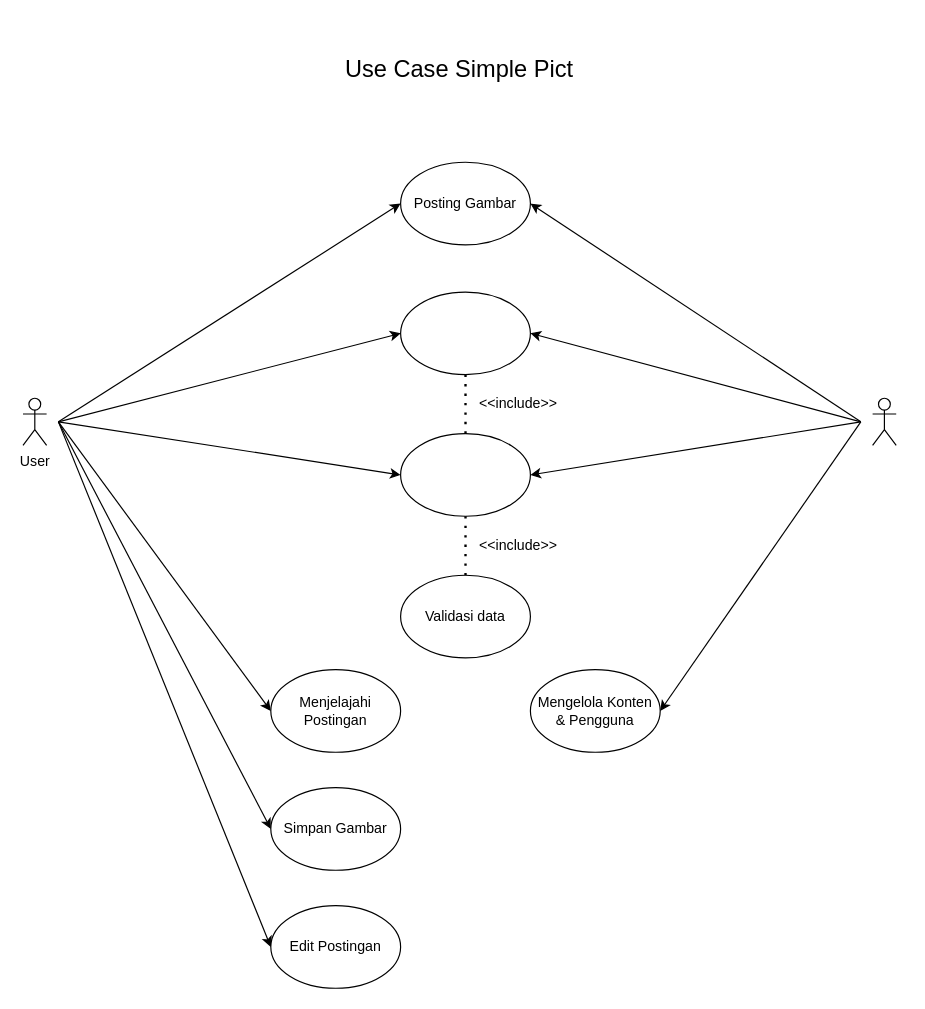
Some shapes in this 925 by 1009 pixel diagram are drawn without their labels. The box of each missing label's shape, as (x1, y1, x2, y2) in pixels:
Admin: (871, 397, 896, 445)
Login: (399, 291, 530, 375)
Register: (399, 432, 530, 516)
